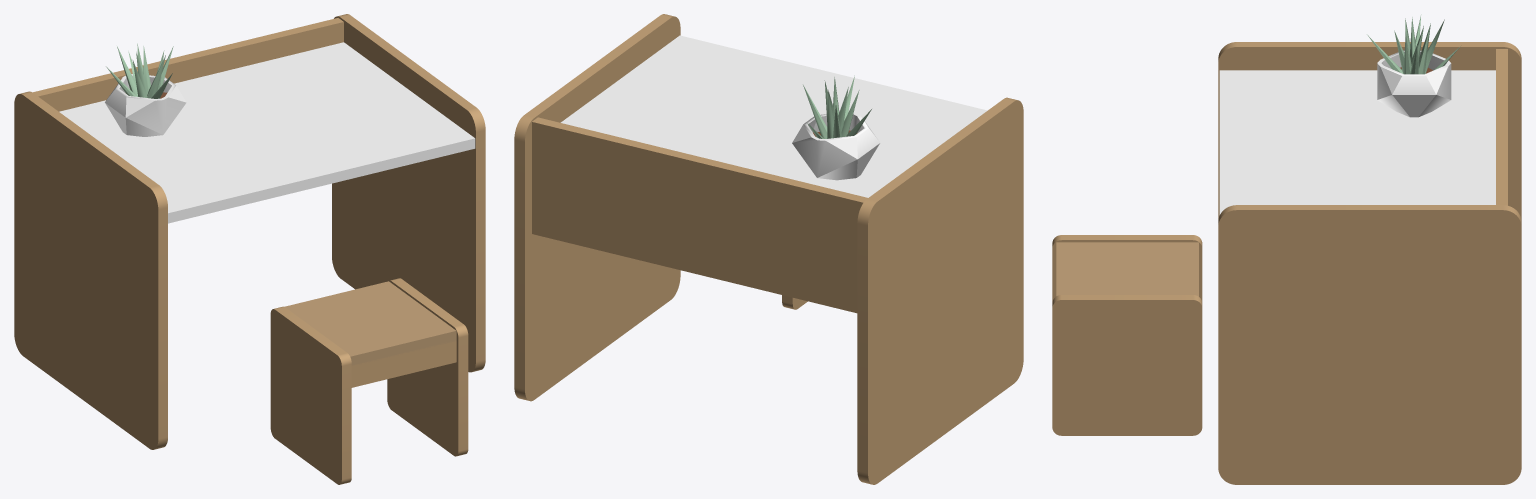
File: Furn1_worktable_color3_joined.fbx
3 views of the same model, side by side, from view 1: azimuth 30°, elevation 25°; view 2: azimuth 150°, elevation 25°; view 3: azimuth 270°, elevation 25° (orthographic). The views are drawn at different scales.
Parts seen in each view (by area): view 1: Куб.007; view 2: Куб.007; view 3: Куб.007.
Boxes of the visible parts, x1=… form: Куб.007: x1=14, y1=14, x2=485, y2=484; Куб.007: x1=514, y1=14, x2=1023, y2=484; Куб.007: x1=1052, y1=14, x2=1521, y2=484.
Bounding box in the file's own units: 193 × 180 × 228.
